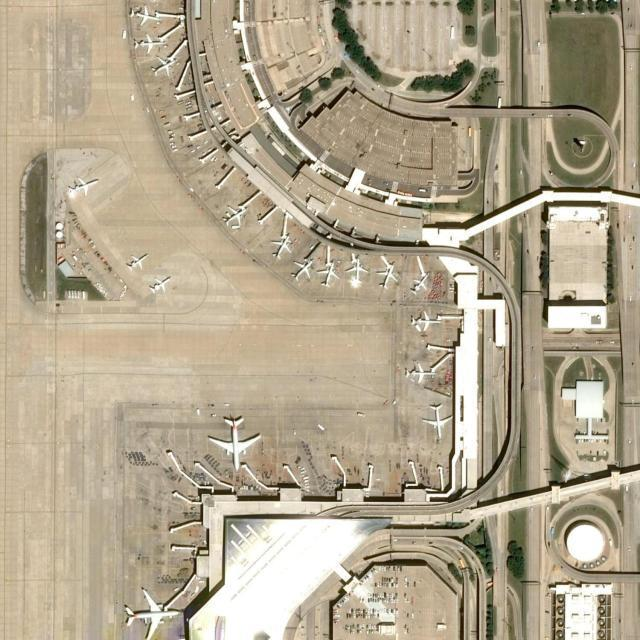Aircraft: (205, 414, 263, 470), (119, 587, 179, 635), (424, 400, 453, 444), (403, 357, 439, 385), (375, 256, 399, 293), (409, 308, 446, 330), (407, 269, 433, 299), (67, 173, 102, 195), (316, 260, 340, 292), (220, 202, 248, 228), (268, 231, 292, 261), (132, 33, 164, 55), (345, 256, 369, 285), (150, 52, 174, 80), (291, 255, 316, 281), (148, 272, 174, 296), (127, 4, 155, 26), (122, 251, 148, 273)
